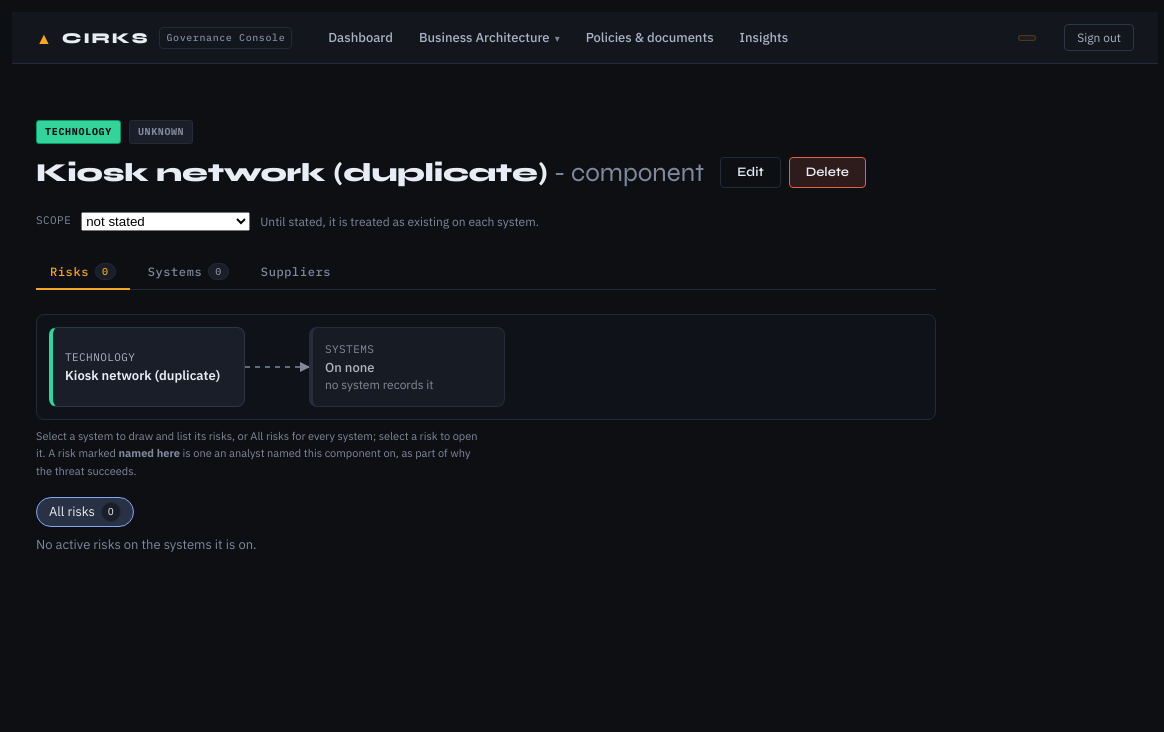
Scenario: a component nothing uses is deleted, and the page returns to its library
Click the button "Delete" at (827, 173), box [789,157,866,188]
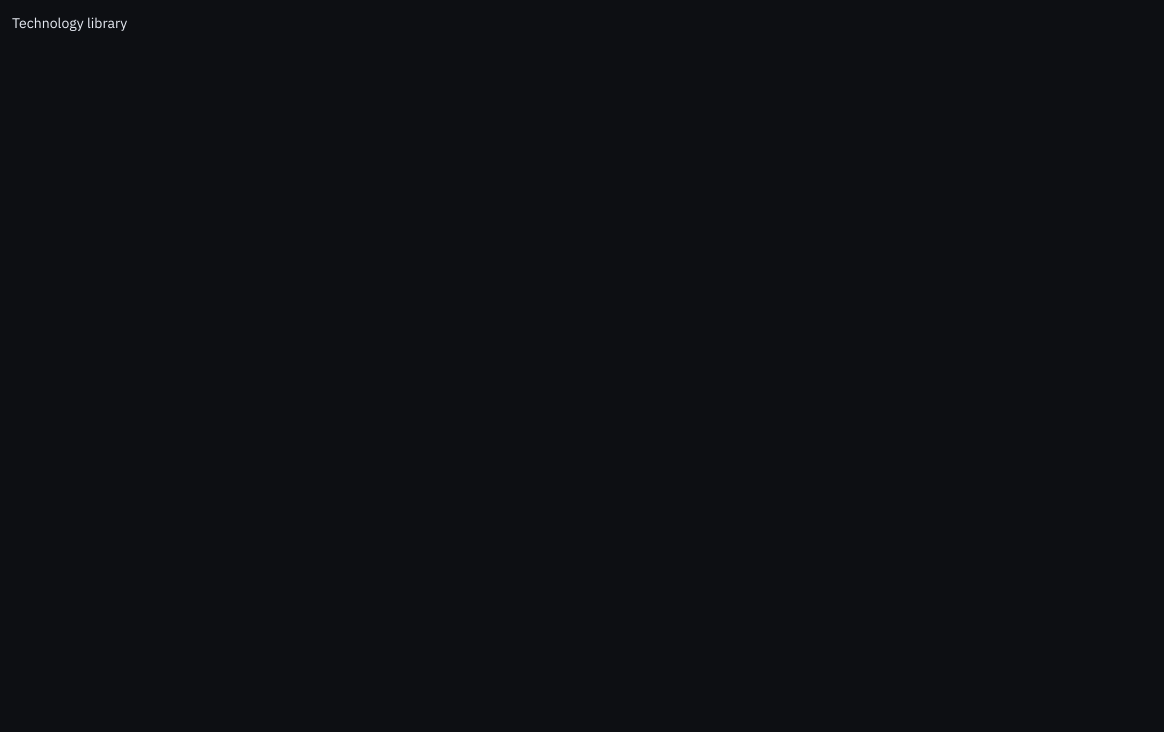
Check: the text "Technology library" is shown, box [12,14,127,32]
